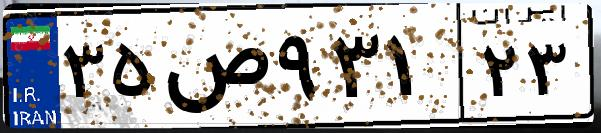1: (385, 28, 445, 110)
2: (475, 38, 525, 113)
3: (330, 28, 385, 110), (57, 26, 110, 100), (525, 38, 570, 115)
5: (110, 28, 158, 98)
9: (270, 28, 330, 110)
ص: (158, 20, 270, 120)
